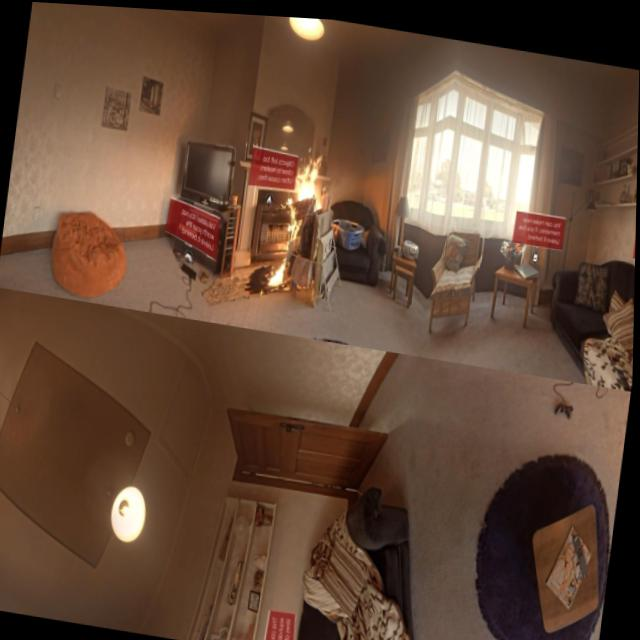fire: (266, 143, 331, 295)
